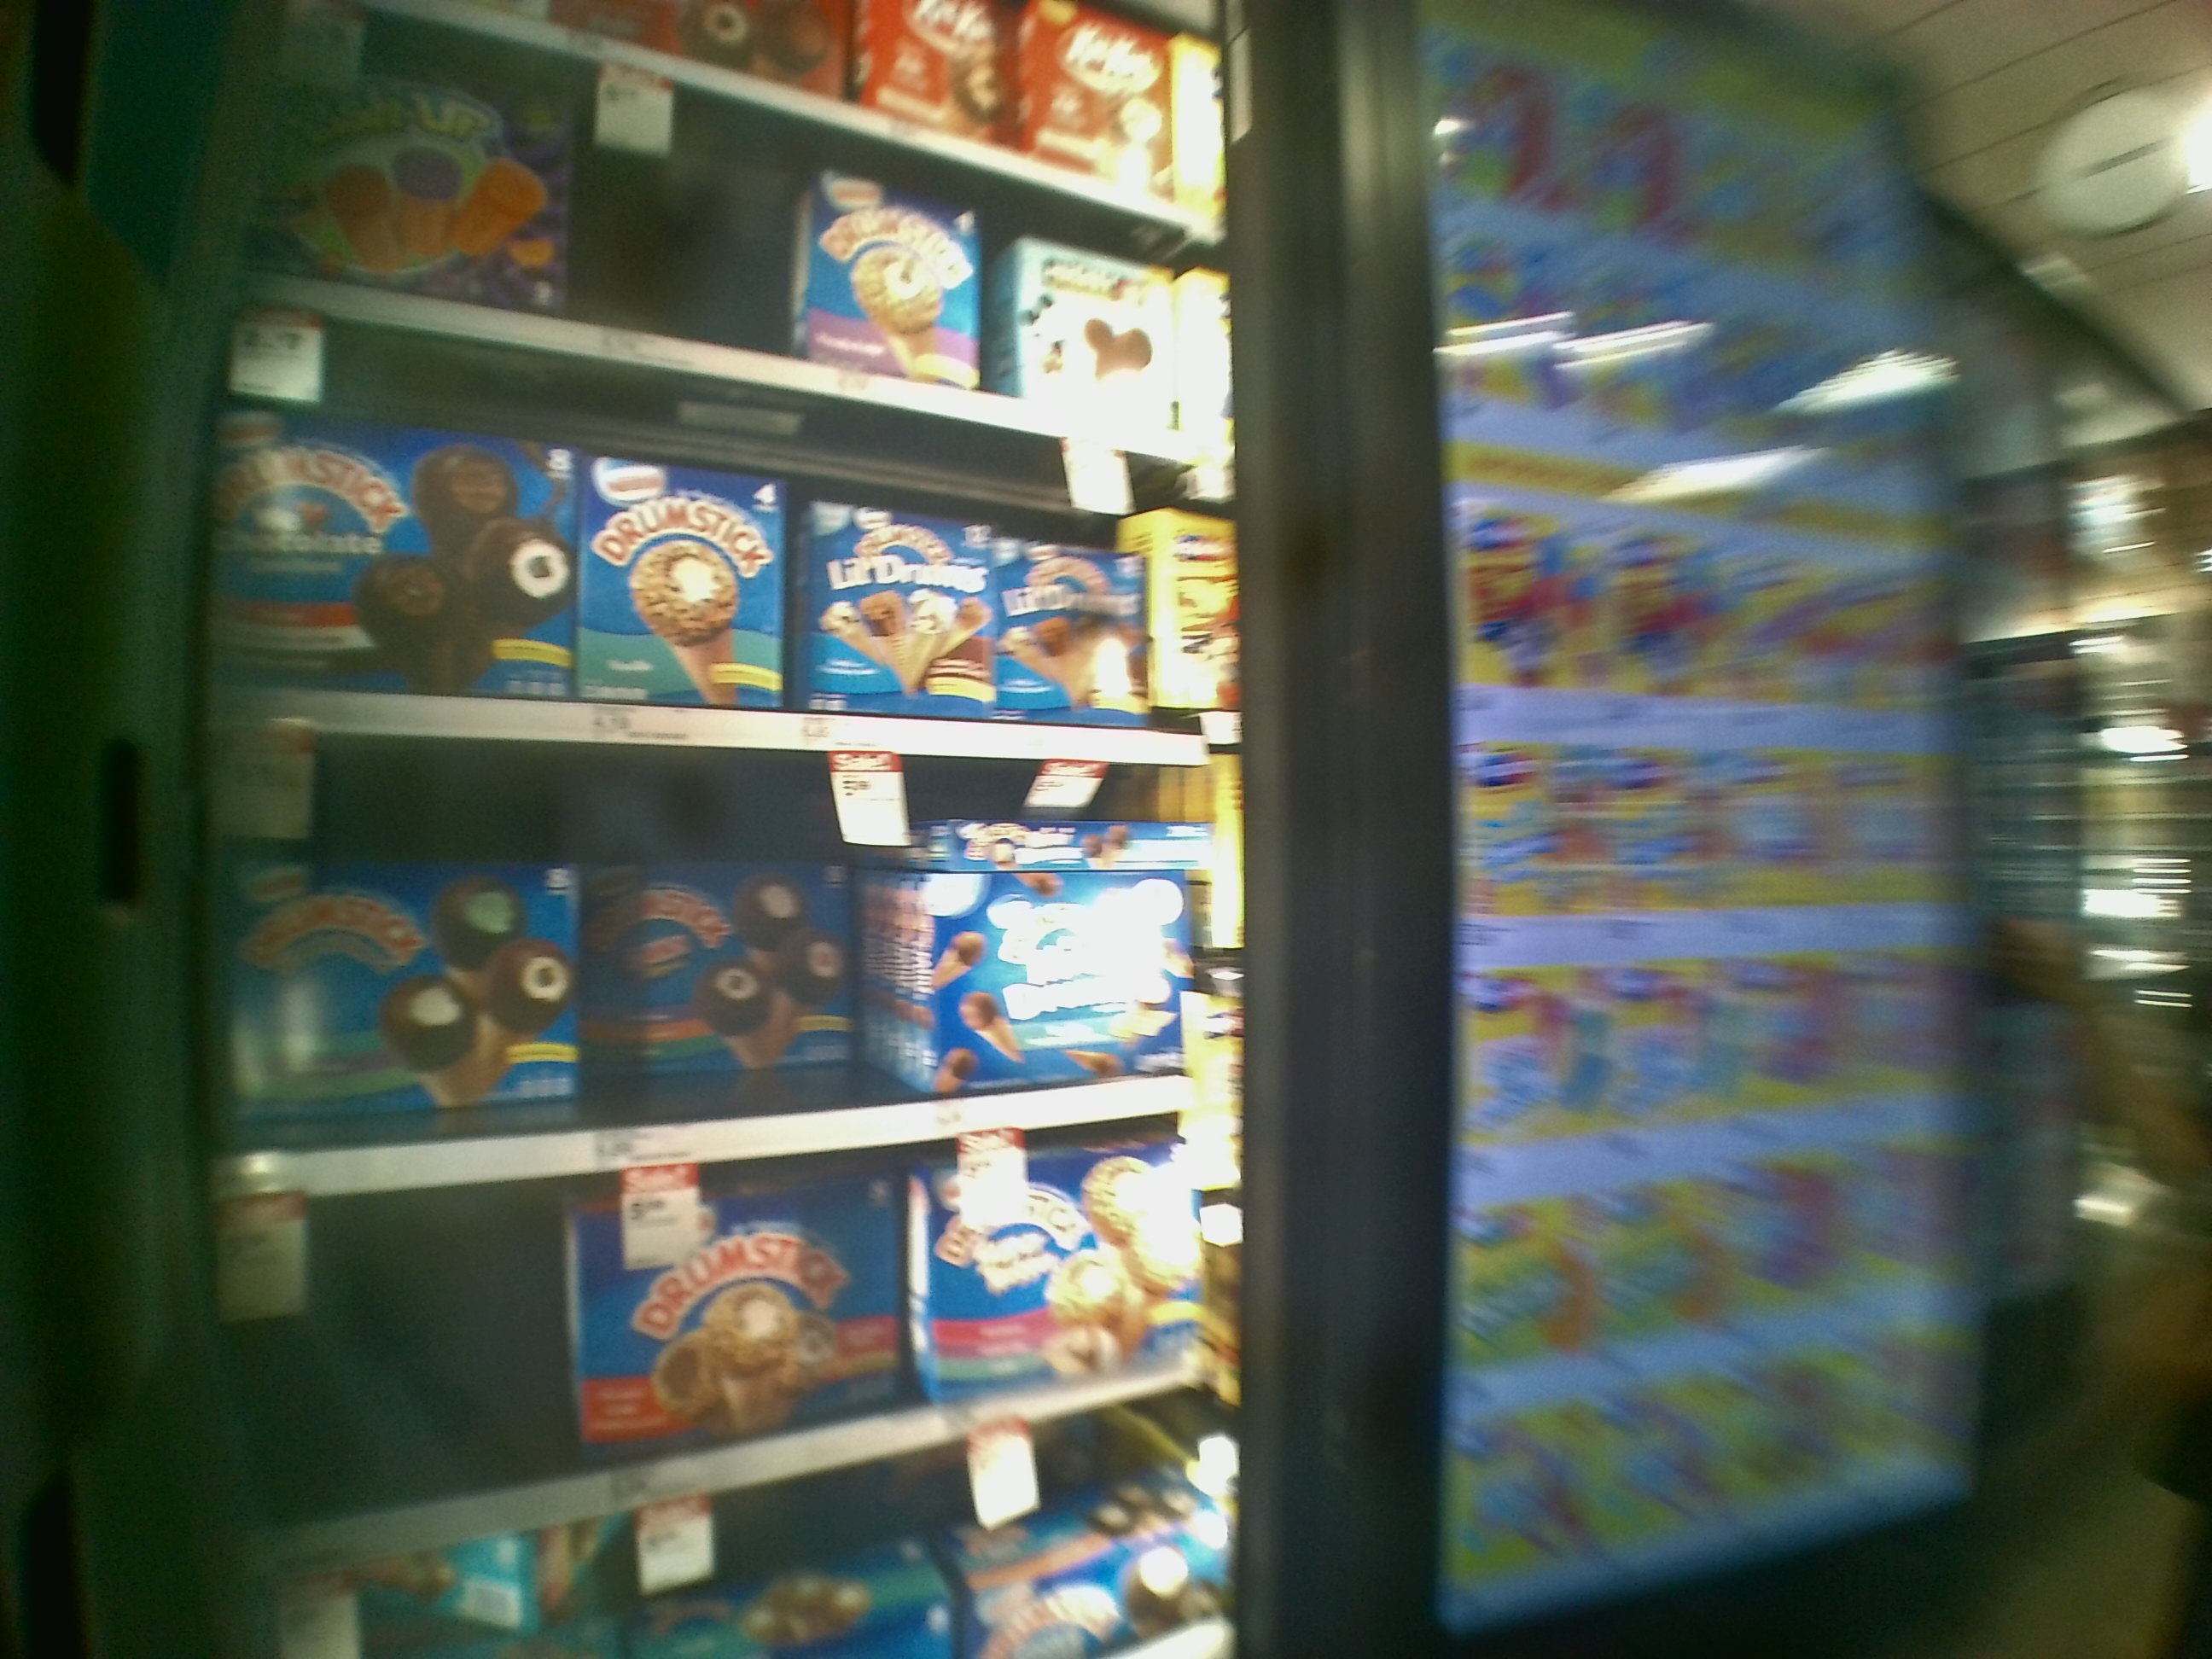shelf: (218, 723, 1263, 1195), (223, 317, 1245, 756)
